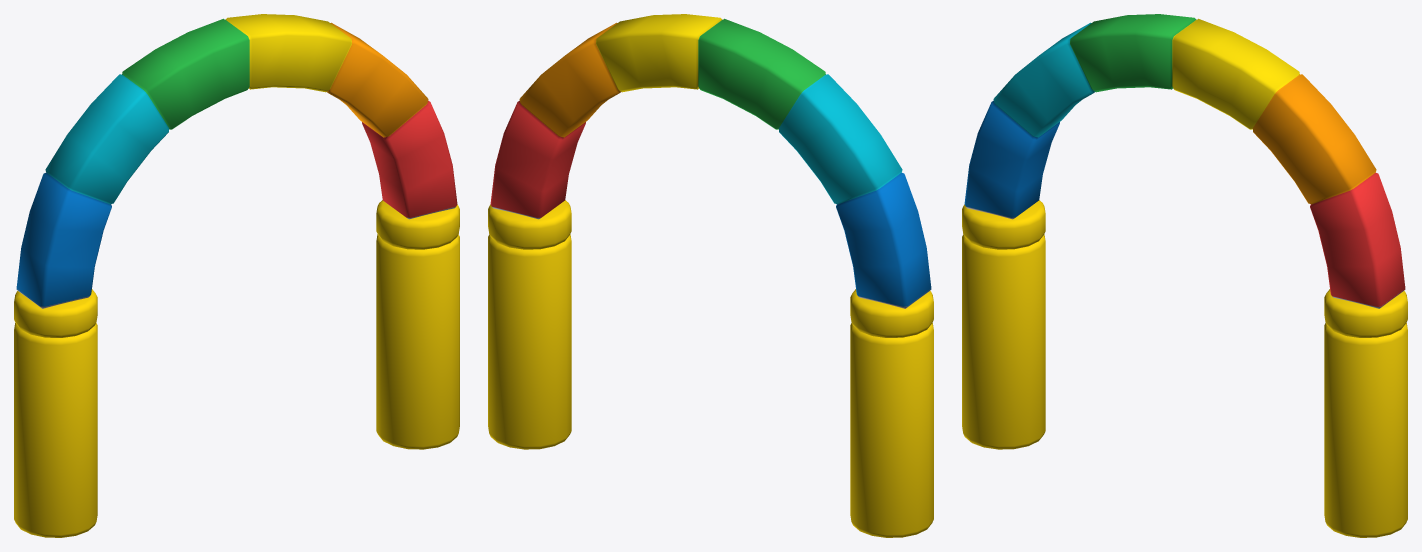
Rendered from victory_gate.fbx.
3 views of the same model, side by side, from view 1: azimuth 30°, elevation 25°; view 2: azimuth 150°, elevation 25°; view 3: azimuth 330°, elevation 25° (orthographic).
Visible parts, largest first — view 1: VictoryDoor; view 2: VictoryDoor; view 3: VictoryDoor.
Part boxes in pixels (x1,y1,x2,y2): VictoryDoor: [14, 14, 459, 537]; VictoryDoor: [488, 14, 933, 537]; VictoryDoor: [962, 14, 1407, 537].
Size of the model in its own units: 1.98 by 1.97 by 0.3316.
1 material, 1 textured.
